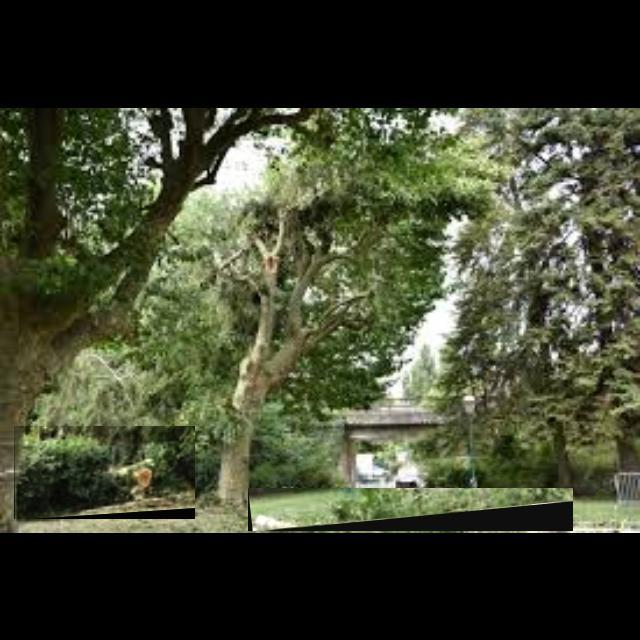fallen_tree: (14, 426, 196, 520), (248, 488, 574, 532)
